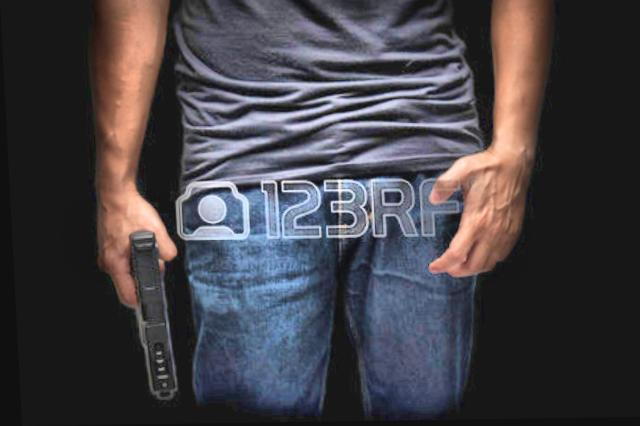pistol: (118, 229, 174, 402)
